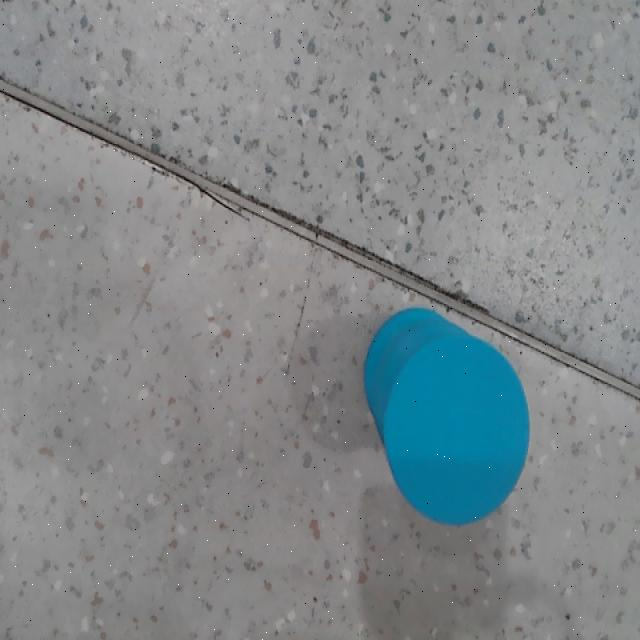b: (386, 336, 530, 526)
